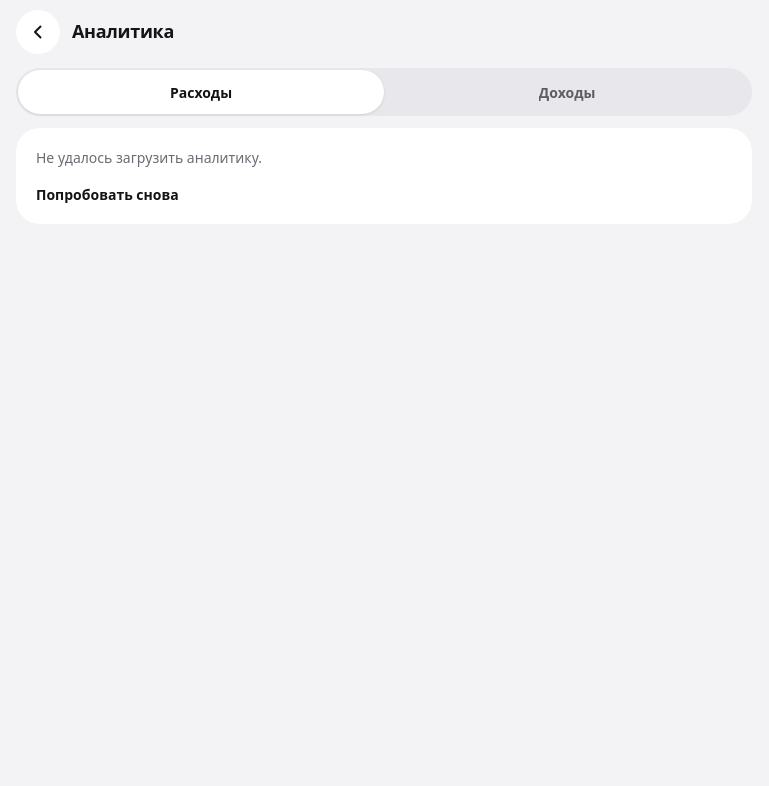
Analytics: a read that failed › a failed read says so and reads again
Click the button "Попробовать снова".
click(107, 194)  # box [24,172,191,216]
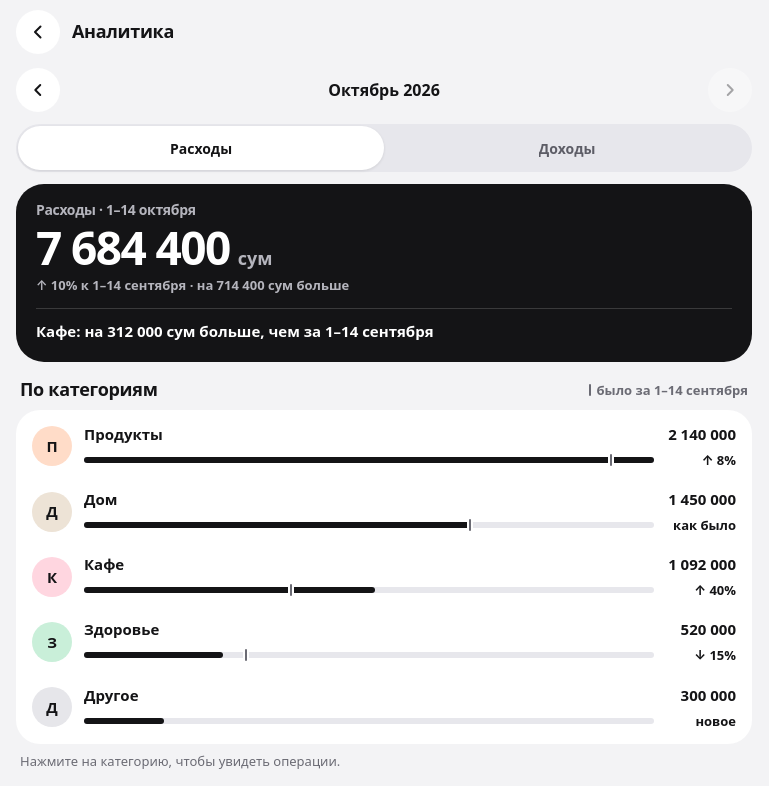
Check: the text "Расходы · 1–14 октября" is shown, box [36,200,196,219]
